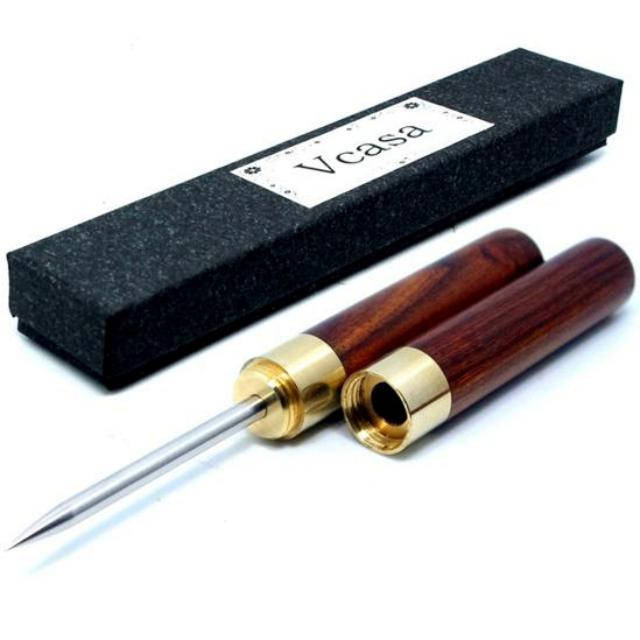ice pick: (5, 227, 543, 551), (0, 0, 2, 2)
